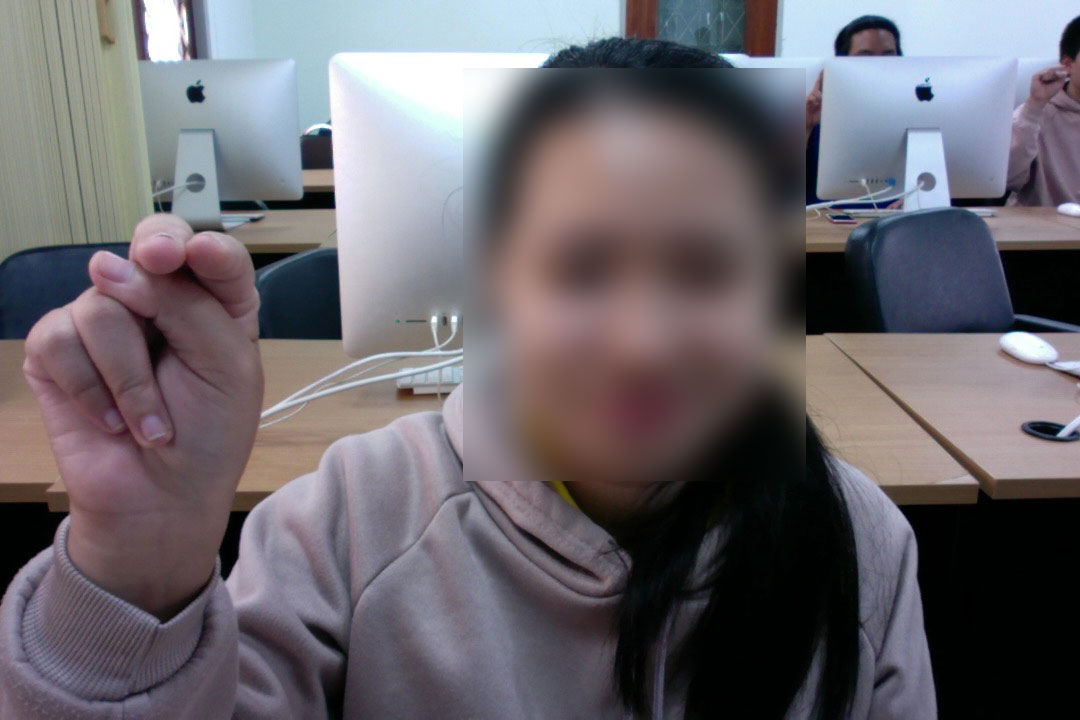nor: (12, 206, 273, 586)
